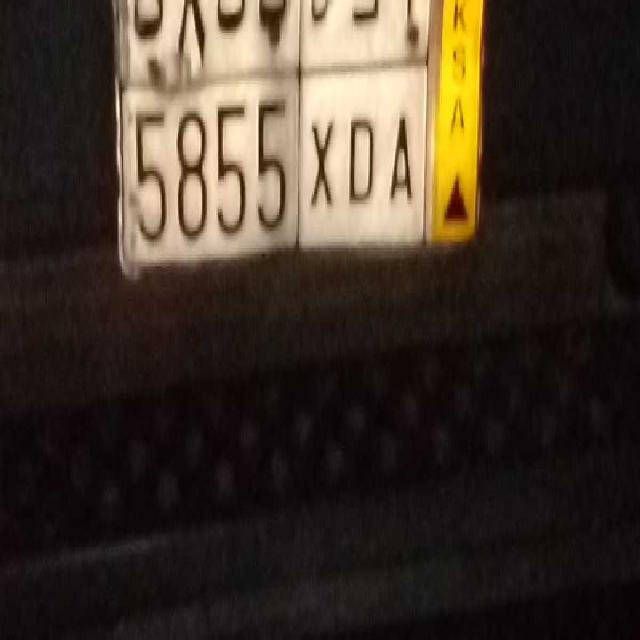license_plate: (122, 67, 426, 277)
